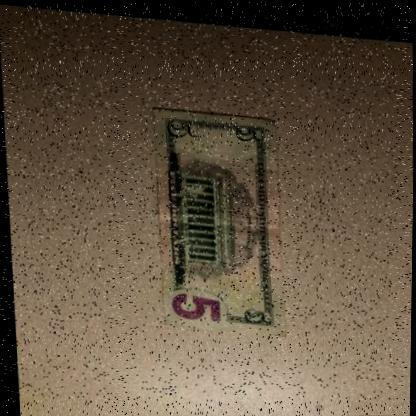five-back: (147, 101, 286, 334)
